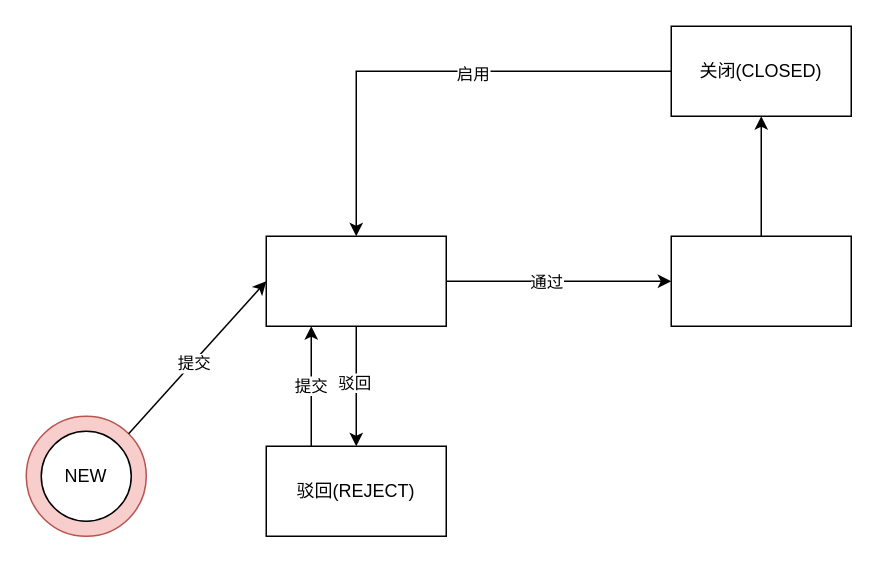
This 878x563 diagram has some shape labels left out. The centre of each missing label's shape, as x and y in pixels:
"启用(OPEN)" belongs at (x=760, y=280).
"审核中(AUDIT)" belongs at (x=355, y=280).
